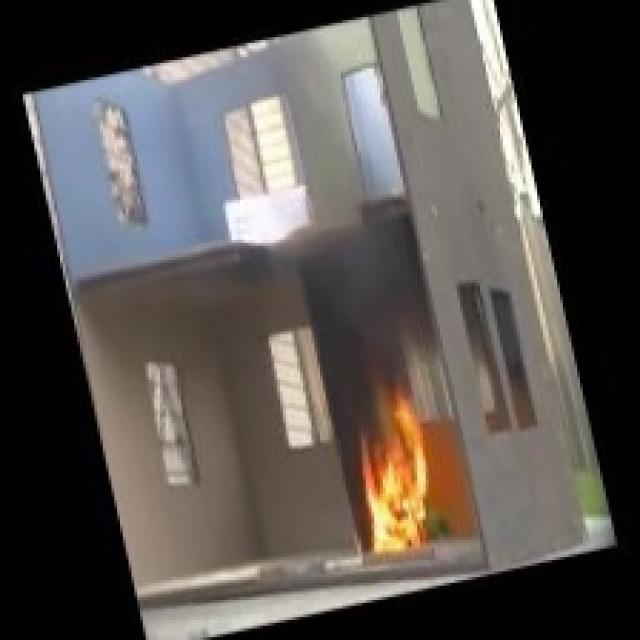fire: (336, 384, 456, 553)
smoke: (283, 206, 434, 391)
